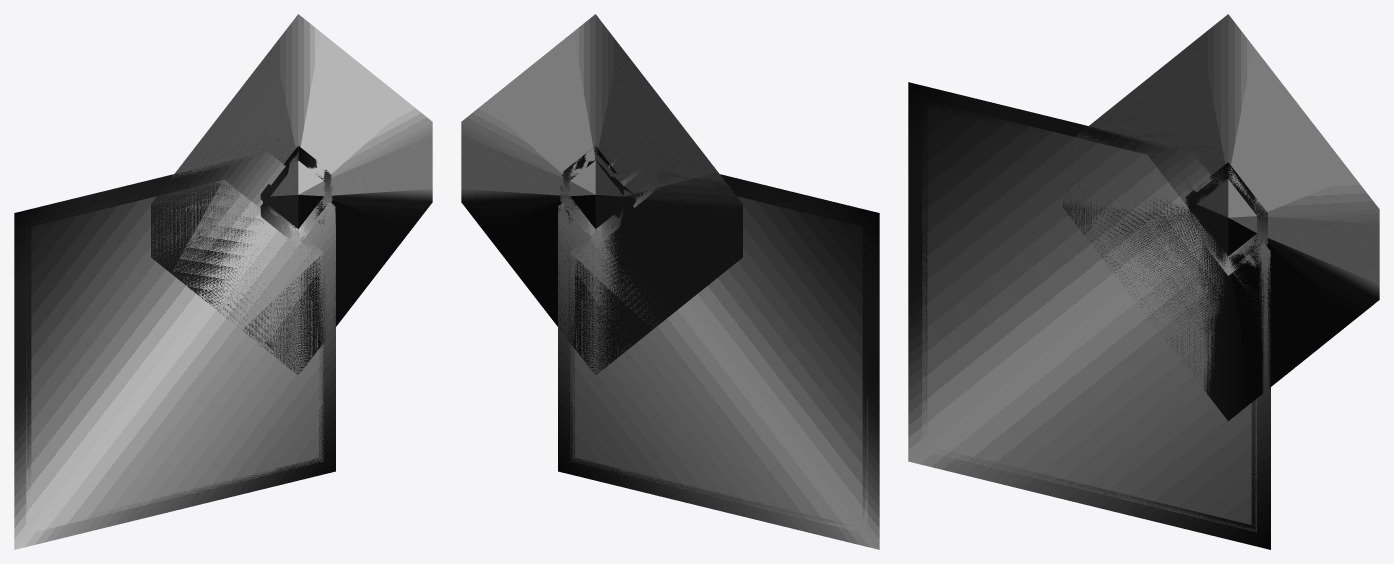
Rendered from eff_ListIconLight01.fbx.
The picture shows the model from 3 angles, left to right: view 1: azimuth 30°, elevation 25°; view 2: azimuth 150°, elevation 25°; view 3: azimuth 330°, elevation 25°; orthographic projection. The views are drawn at different scales.
Parts seen in each view (by area): view 1: eff_ListIconLight01_msh; view 2: eff_ListIconLight01_msh; view 3: eff_ListIconLight01_msh.
Part boxes in pixels (<box>): eff_ListIconLight01_msh: <box>14,14,432,549</box>; eff_ListIconLight01_msh: <box>461,14,879,549</box>; eff_ListIconLight01_msh: <box>908,14,1379,549</box>.
Bounding box in the file's own units: 172 × 183 × 1.31e-13.
